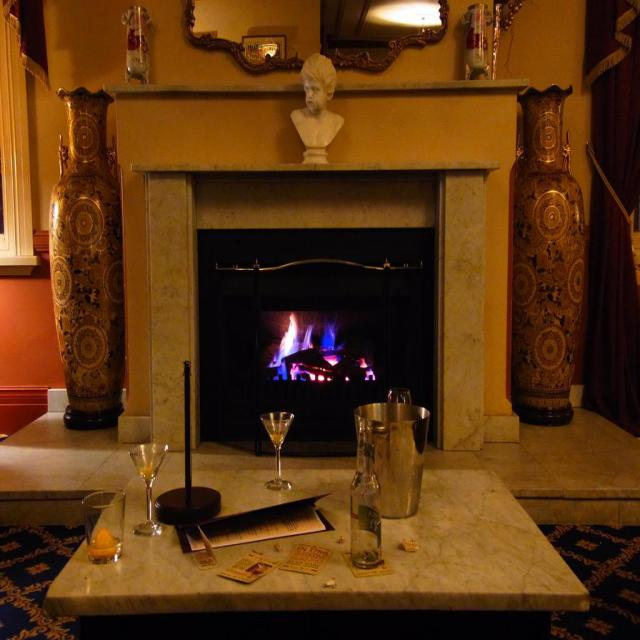Fire: (195, 176, 440, 452)
